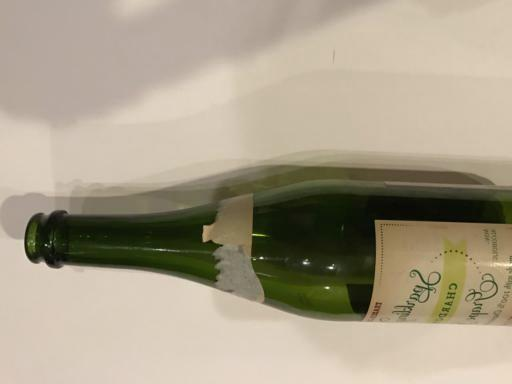alcohol: (23, 192, 511, 328)
glass: (23, 192, 511, 328)
sodocalcique: (23, 192, 511, 328)
